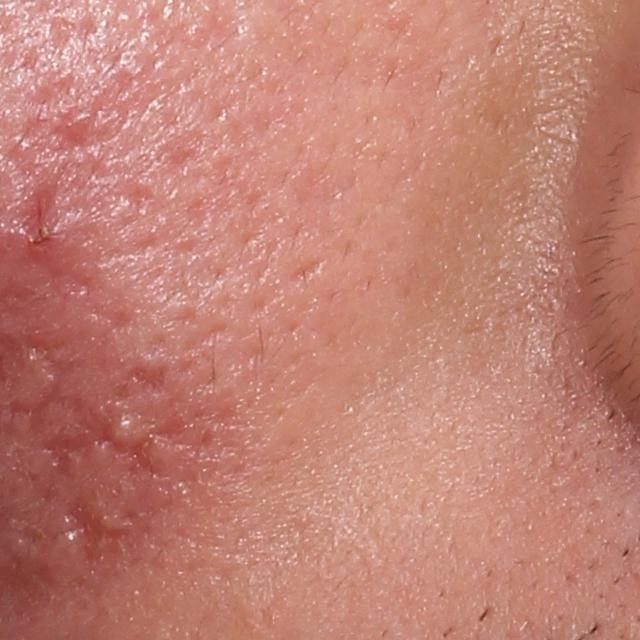atrophic_scar: (68, 498, 142, 568), (20, 180, 61, 241), (124, 361, 172, 392), (287, 253, 326, 288)
